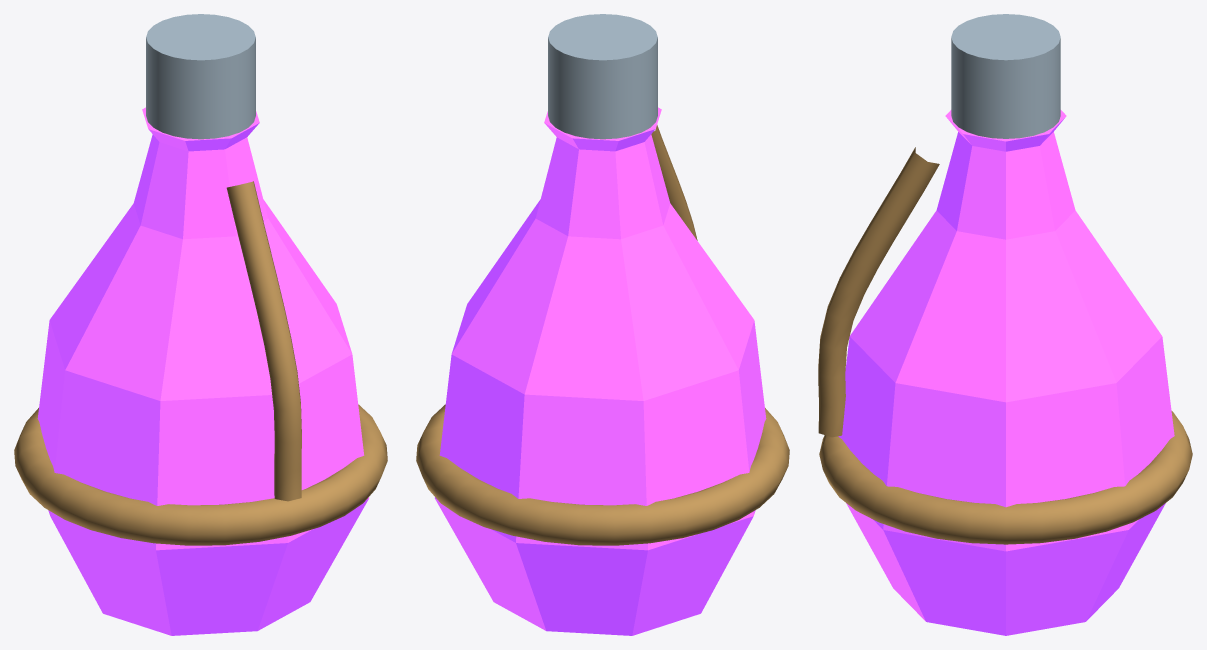
The model's file is moonsteel-convergence-aether-vial-3c4d5c04__18202.glb.
3 renders of one model, left to right at view 1: azimuth 30°, elevation 25°; view 2: azimuth 150°, elevation 25°; view 3: azimuth 270°, elevation 25°, orthographic.
Visible parts, largest first — view 1: aether-vial; view 2: aether-vial; view 3: aether-vial.
Part boxes in pixels (x1,y1,x2,y2): aether-vial: (14,14,387,635); aether-vial: (416,14,789,635); aether-vial: (818,14,1192,635).
Bounding box in the file's own units: 0.43 × 0.7 × 0.4312.
